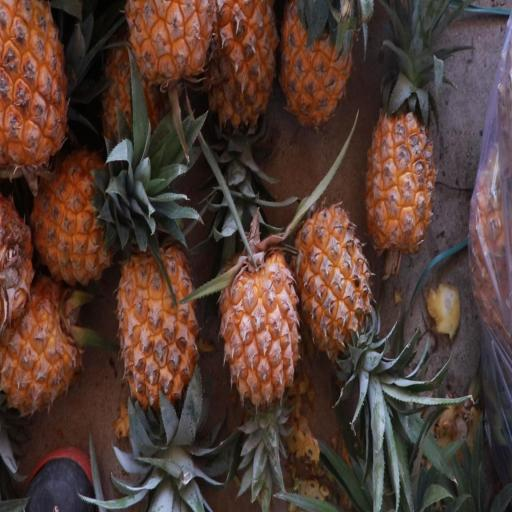Pineapple - v8 v1: (116, 238, 202, 450), (28, 144, 152, 290), (291, 196, 377, 389), (214, 242, 302, 426), (362, 66, 440, 256), (0, 0, 73, 186), (1, 268, 86, 419), (123, 0, 222, 128), (197, 0, 280, 137), (278, 0, 356, 137)
